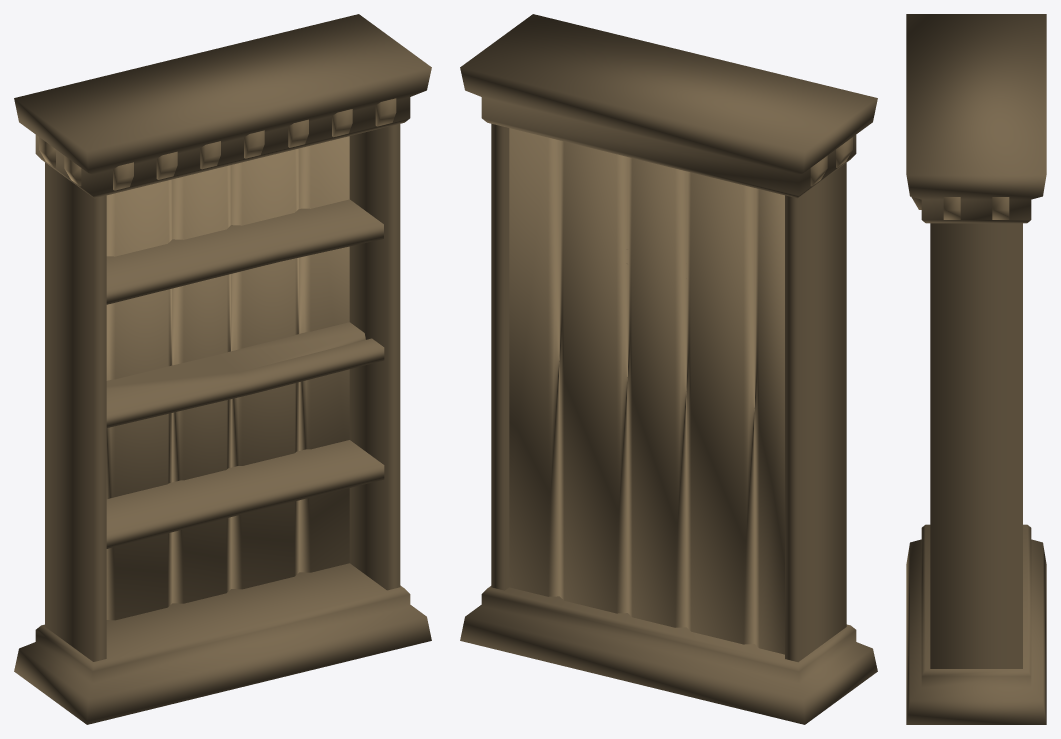
Rendered from rpgpp_ag_shelf_wood_06a.fbx.
3 views of the same model, side by side, from view 1: azimuth 30°, elevation 25°; view 2: azimuth 150°, elevation 25°; view 3: azimuth 270°, elevation 25° (orthographic). The views are drawn at different scales.
Visible parts, largest first — view 1: rpgpp_ag_shelf_wood_06a; view 2: rpgpp_ag_shelf_wood_06a; view 3: rpgpp_ag_shelf_wood_06a.
Part boxes in pixels (x1=…): rpgpp_ag_shelf_wood_06a: x1=14, y1=14, x2=431, y2=724; rpgpp_ag_shelf_wood_06a: x1=460, y1=14, x2=877, y2=724; rpgpp_ag_shelf_wood_06a: x1=906, y1=14, x2=1046, y2=724.
Bounding box in the file's own units: 1.18 × 1.88 × 0.4341.
